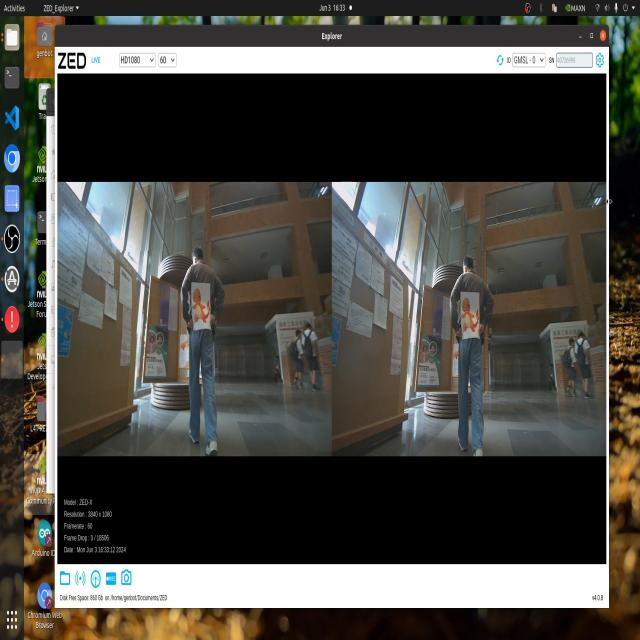red: (189, 276, 220, 325), (460, 286, 480, 338)
